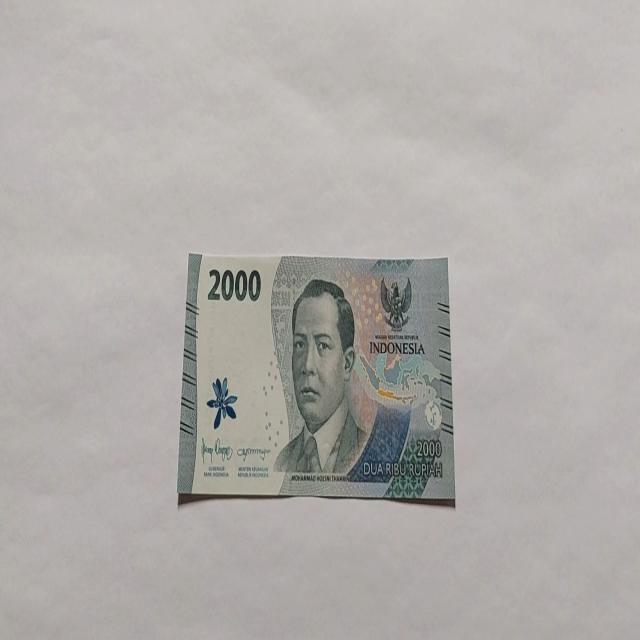dua ribu rupiah: (177, 250, 456, 506), (272, 277, 370, 478)
